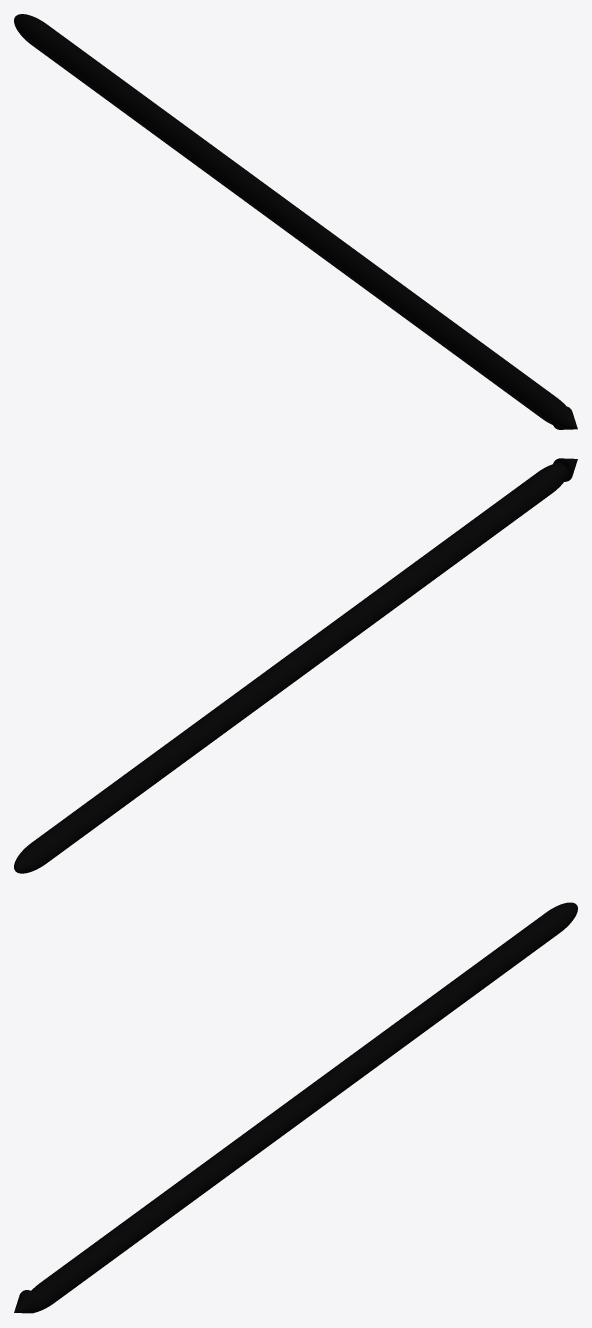
The model's file is braco_esqueleto_suave.glb.
The picture shows the model from 3 angles, top to bottom: view 1: azimuth 30°, elevation 25°; view 2: azimuth 150°, elevation 25°; view 3: azimuth 330°, elevation 25°; orthographic projection.
Visible parts, largest first — view 1: mesh_id65; view 2: mesh_id65; view 3: mesh_id65.
Part boxes in pixels (<box>): mesh_id65: <box>14,14,565,424</box>; mesh_id65: <box>14,463,567,873</box>; mesh_id65: <box>27,902,577,1313</box>.
Size of the model in its own units: 0.0688 by 0.0704 by 2.84.
2 materials, 2 textured.
